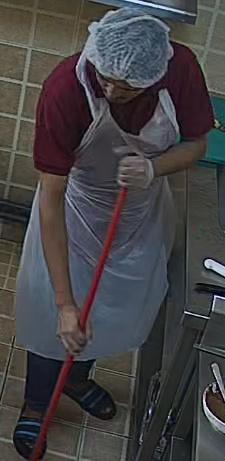apron: (15, 33, 189, 302)
